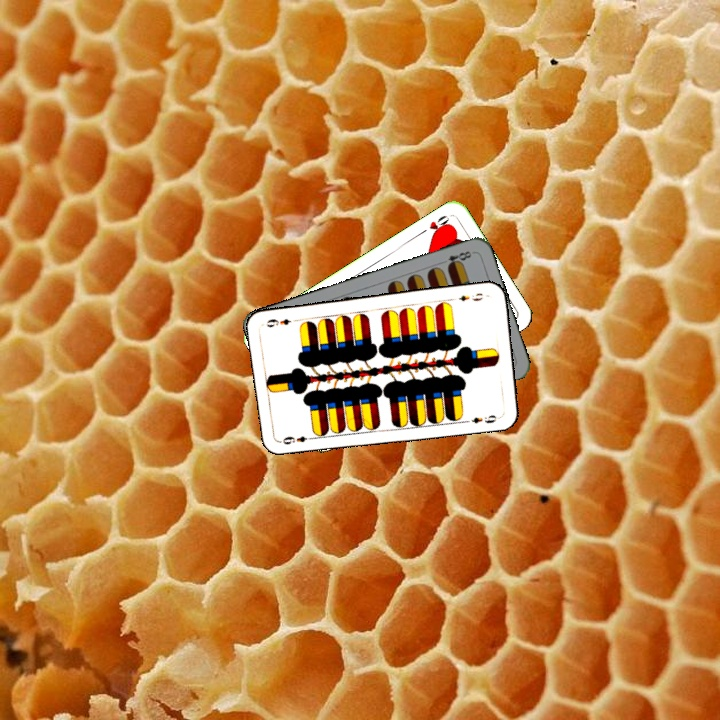E8: (436, 247, 476, 270)
E9: (279, 432, 316, 447), (454, 289, 485, 304)
HO: (416, 211, 453, 238)
